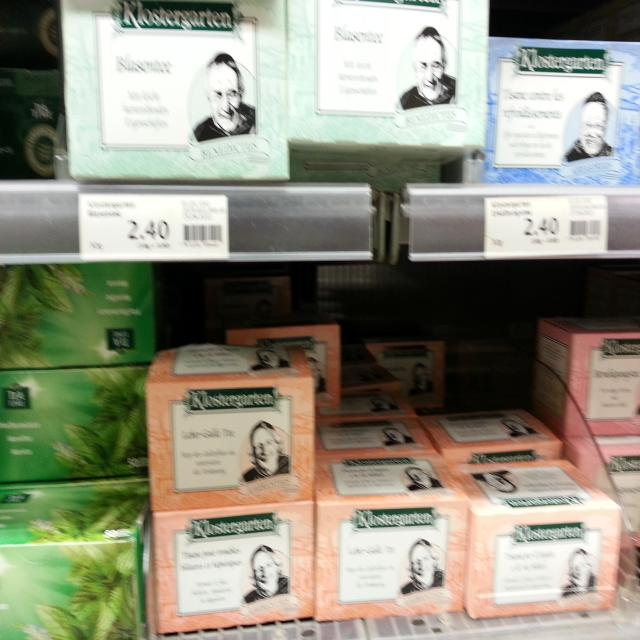Tea: (66, 0, 290, 177), (289, 0, 484, 166), (136, 343, 317, 514), (448, 459, 620, 621), (479, 30, 640, 197), (315, 449, 466, 622), (0, 481, 145, 640), (153, 508, 316, 636), (0, 256, 158, 372), (0, 370, 152, 482), (535, 326, 640, 444)
